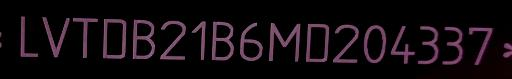letter: (266, 20, 302, 63), (39, 15, 71, 60), (70, 15, 100, 62), (157, 18, 187, 63), (100, 14, 128, 61), (330, 22, 360, 65), (209, 19, 237, 64), (388, 22, 416, 67), (466, 24, 496, 65), (16, 13, 42, 60), (237, 20, 265, 63), (131, 17, 157, 62), (304, 20, 330, 63), (414, 23, 440, 66), (361, 23, 387, 64), (439, 25, 465, 66), (189, 18, 205, 63)
